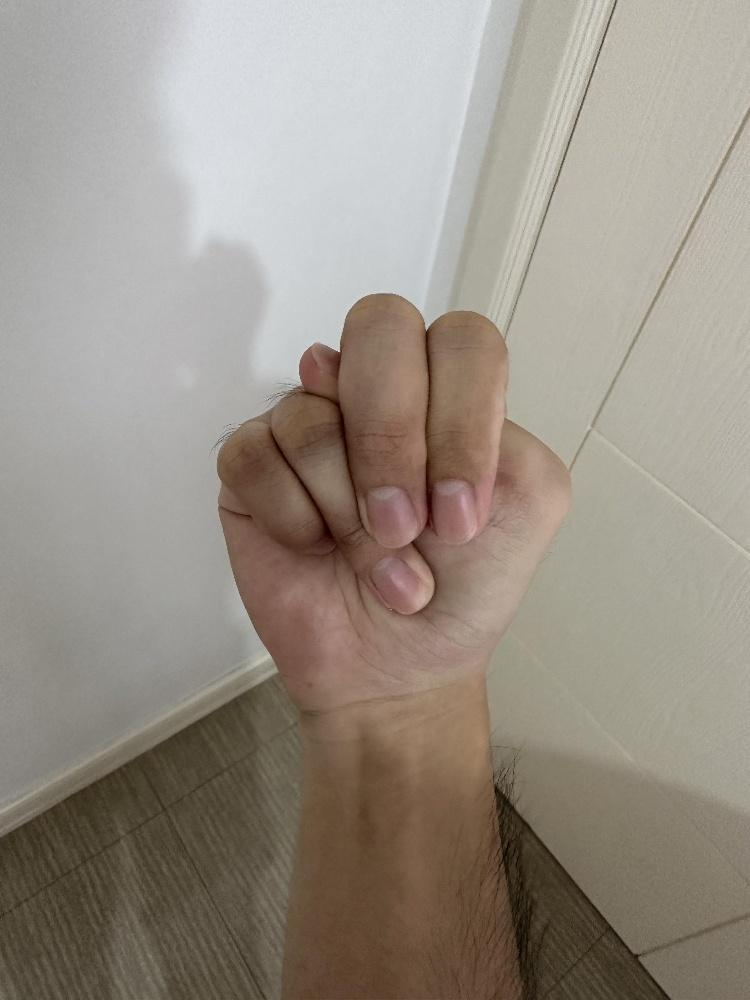n: (212, 288, 575, 718)
